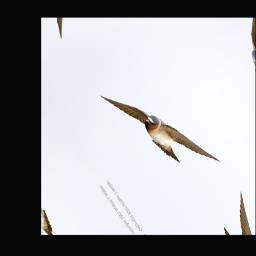Swallow: (100, 60, 223, 196)
